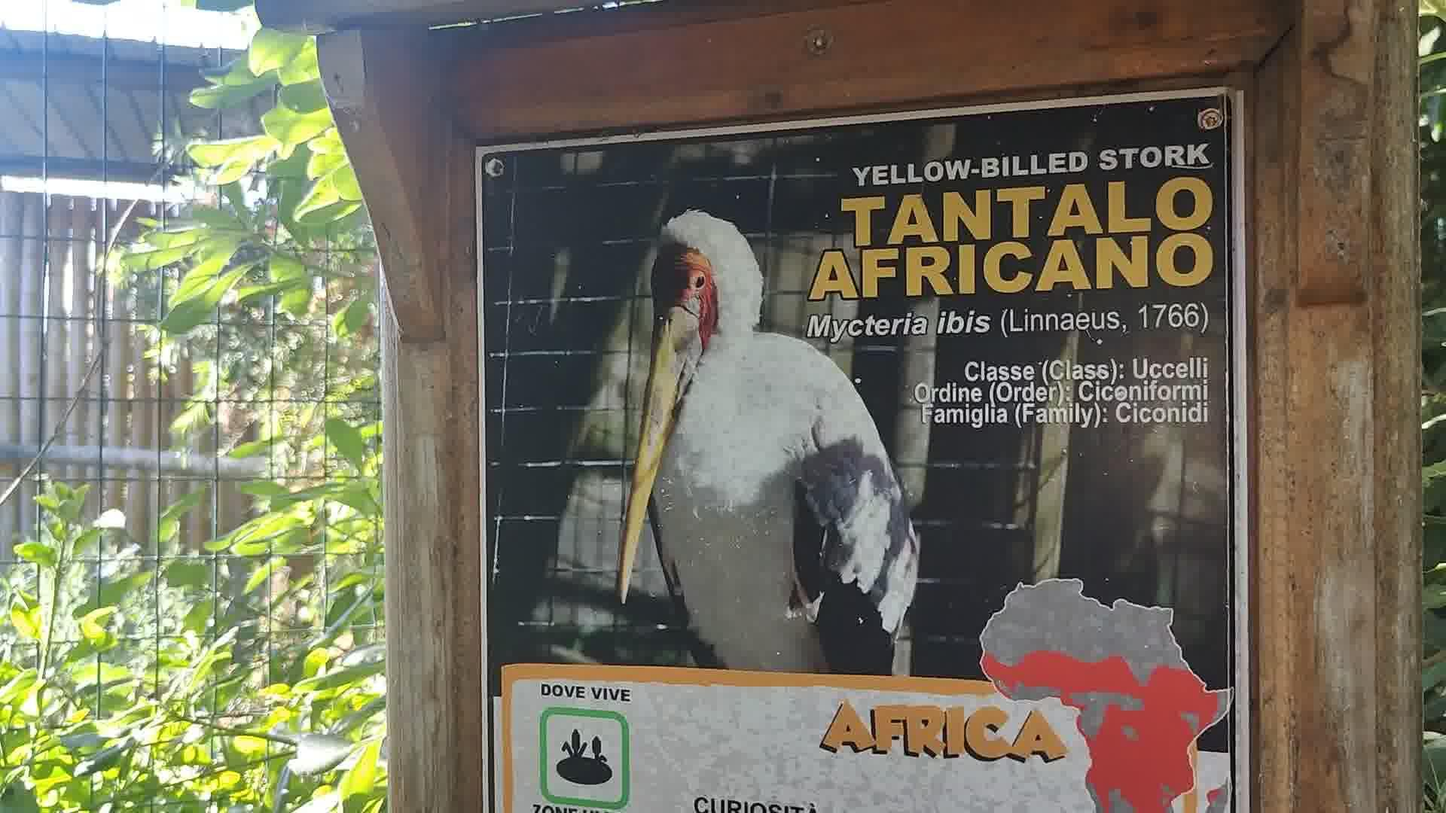apple: (617, 208, 920, 676)
